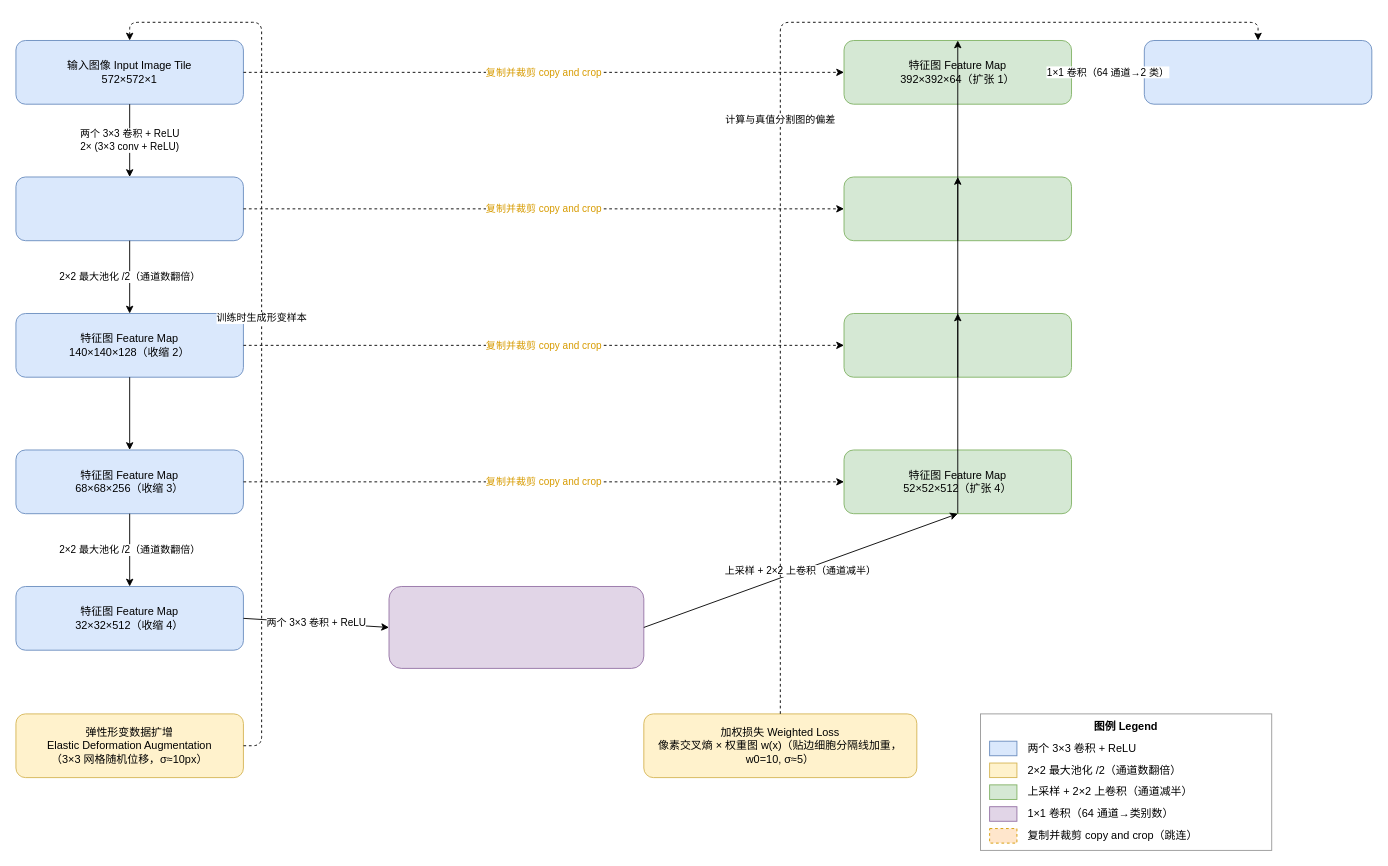
Some shapes in this 1388 by 866 pixel diagram are drawn without their labels. Each missing label, with the box of its shape:
分割图 Segmentation Map 388×388×2（每像素类别）: (1143, 40, 1372, 104)
特征图 Feature Map 104×104×256（扩张 3）: (843, 313, 1072, 377)
特征图 Feature Map 200×200×128（扩张 2）: (843, 176, 1072, 241)
特征图 Feature Map 284×284×64（收缩 1）: (15, 176, 243, 241)
瓶颈 Bottleneck 30×30×1024（3×3 卷积+ReLU ×2）: (388, 586, 644, 668)
